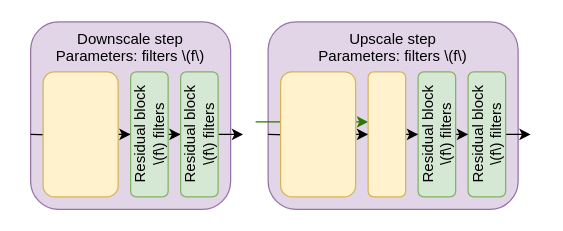
The diagram is 563 pixels wide and 231 high, and some of its shapes have lost their labels. Each missing label, with the centre of its shape:
Concatenate: (386,134)
Downscaling residual block \(f\) filters: (80,134)
Upscaling residual block \(f\) filters: (317,134)
